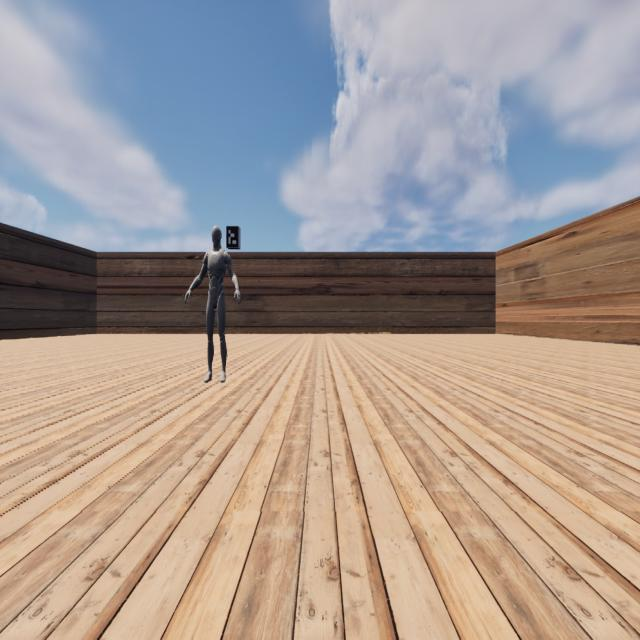aruco: (226, 226, 239, 248)
hip: (208, 290, 225, 300)
